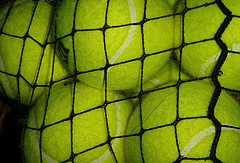tennis ball: (53, 1, 173, 89), (21, 82, 134, 163), (124, 83, 240, 161), (1, 1, 73, 106), (174, 1, 240, 91)
